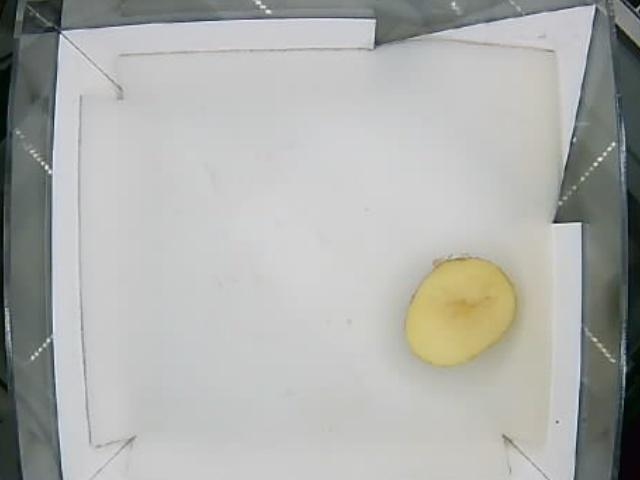Potato: (403, 256, 518, 367)
